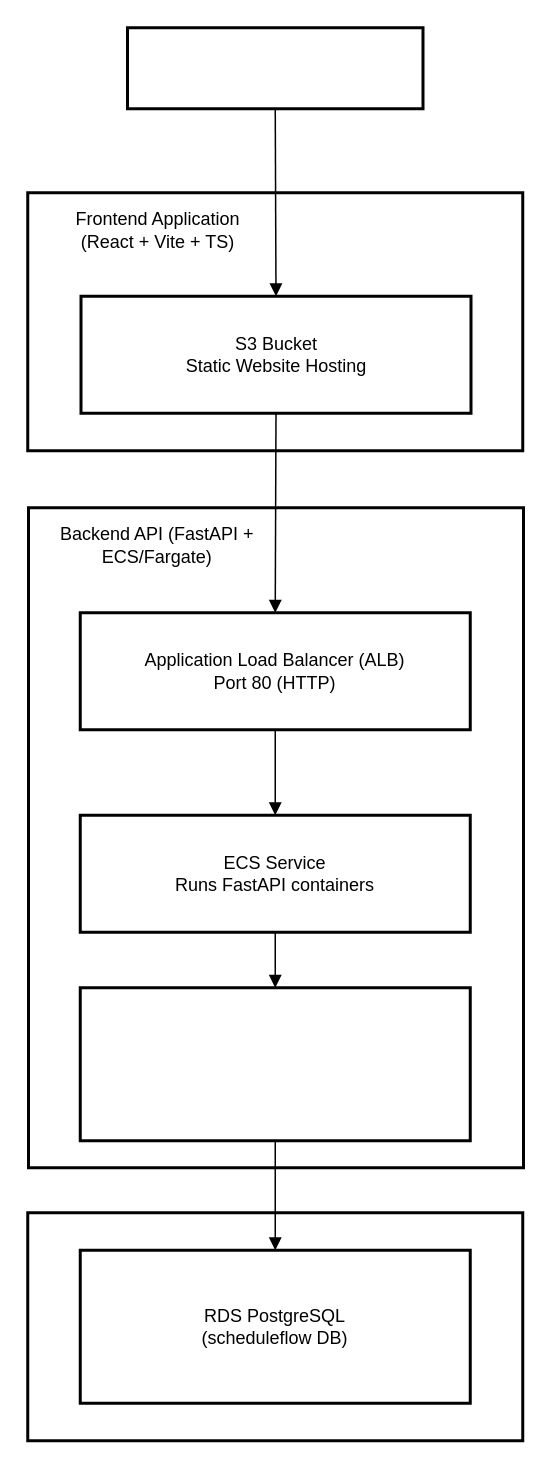
This 551x1467 diagram has some shape labels left out. The shapes that lost their labels are listed below. From the top down, each one's centre as x and y in pixels, then its label:
the point at 274,68: Browser (End User)
the point at 274,1064: FastAPI Container Handles API requests
